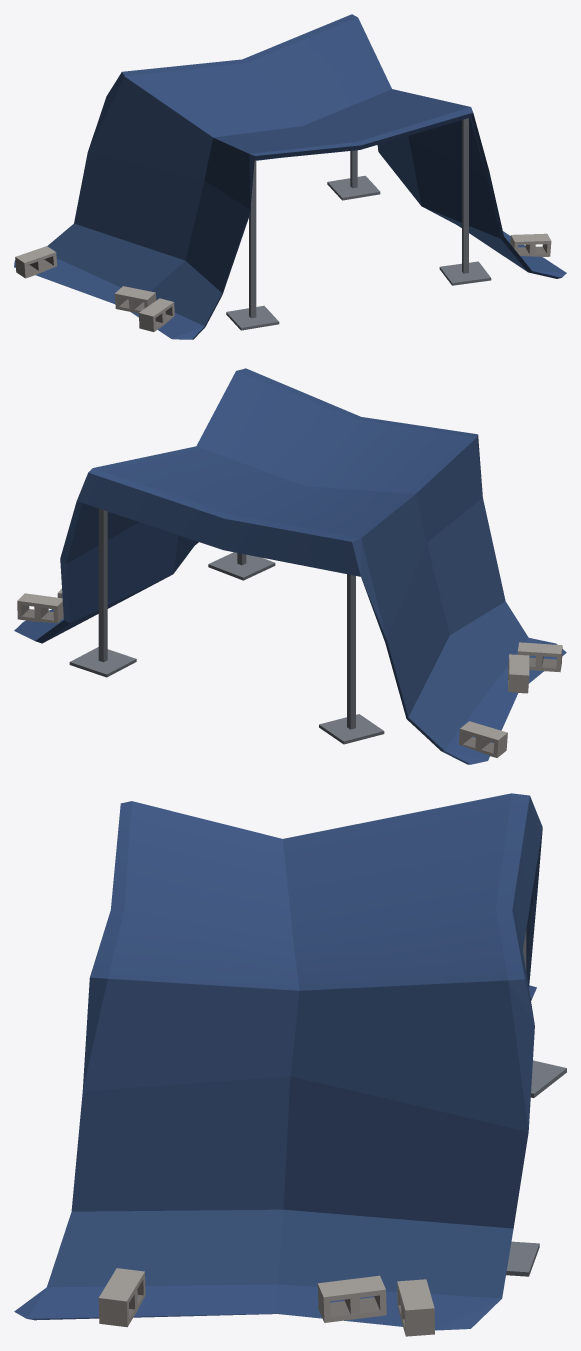
Rendered from AI_Prop_Makeshift_Tent_07.fbx.
3 views of the same model, one above another, from view 1: azimuth 30°, elevation 25°; view 2: azimuth 150°, elevation 25°; view 3: azimuth 270°, elevation 25° (orthographic). The views are drawn at different scales.
Visible parts, largest first — view 1: AI_Prop_Makeshift_Tent_07; view 2: AI_Prop_Makeshift_Tent_07; view 3: AI_Prop_Makeshift_Tent_07.
Boxes of the visible parts, <box> form: AI_Prop_Makeshift_Tent_07: <box>14,14,566,339</box>; AI_Prop_Makeshift_Tent_07: <box>14,368,566,764</box>; AI_Prop_Makeshift_Tent_07: <box>14,793,566,1336</box>.
Size of the model in its own units: 9.95 by 3.71 by 6.47.
